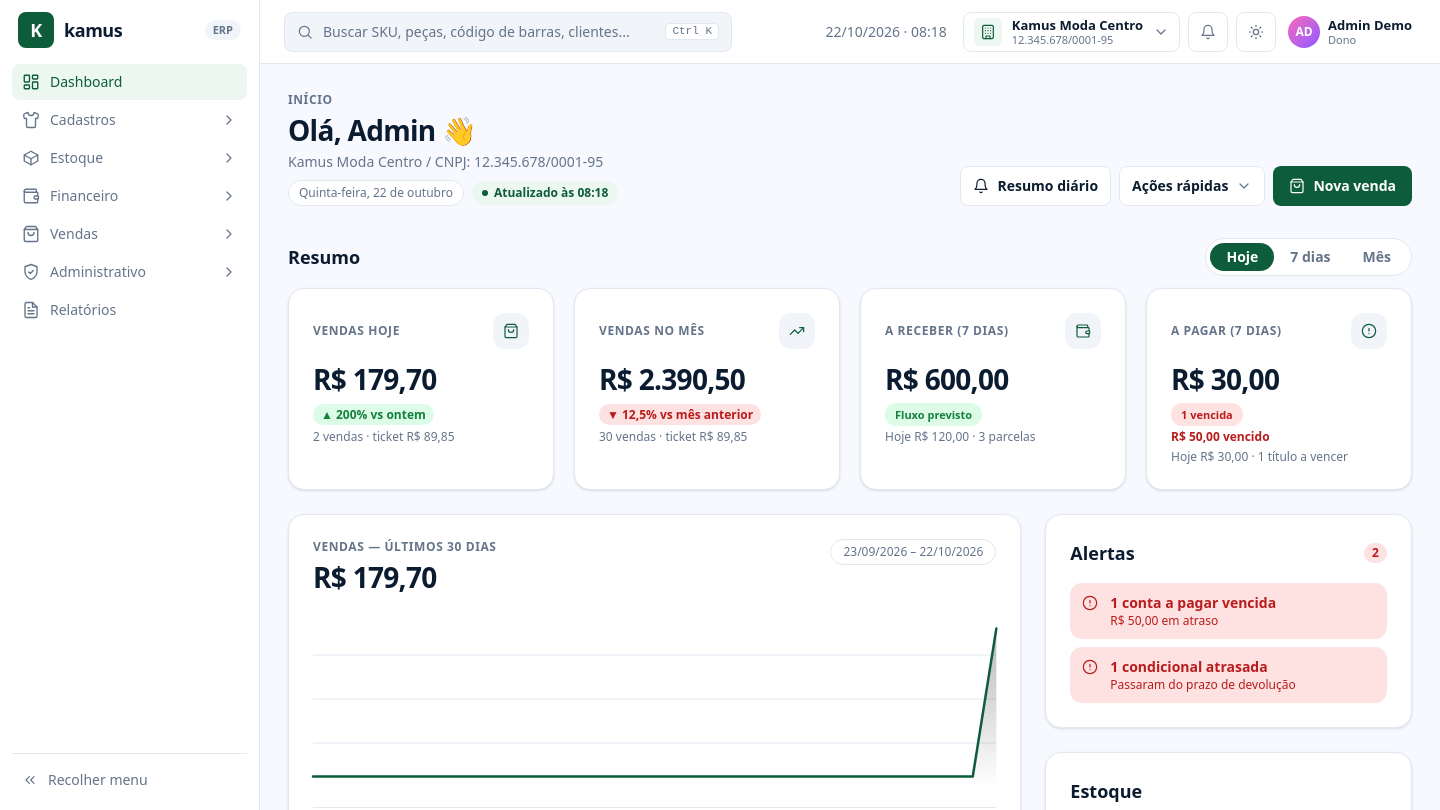
it: Dashboard › visão consolidada mostra quantas empresas estão somadas
Expected: the text "Kamus Moda Centro / CNPJ: 12.345.678/0001-95" is shown, 288,152 -> 618,172
Click the button with aria-label "Empresa ativa" at (1071, 32), box 963,12 -> 1180,52
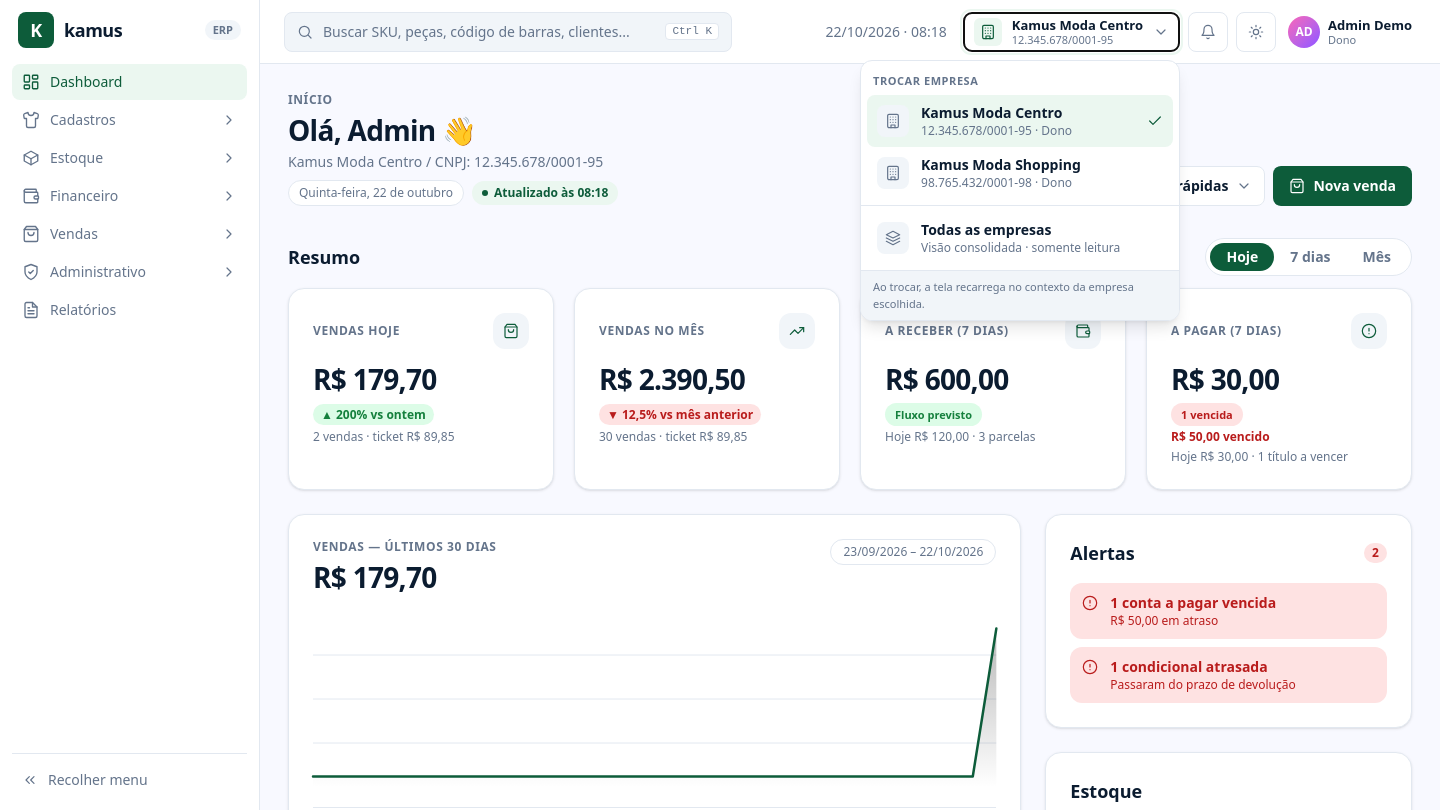
Click the menu item "Todas as empresas Visão consolidada · somente leitura" at (1020, 238), box 867,212 -> 1173,264
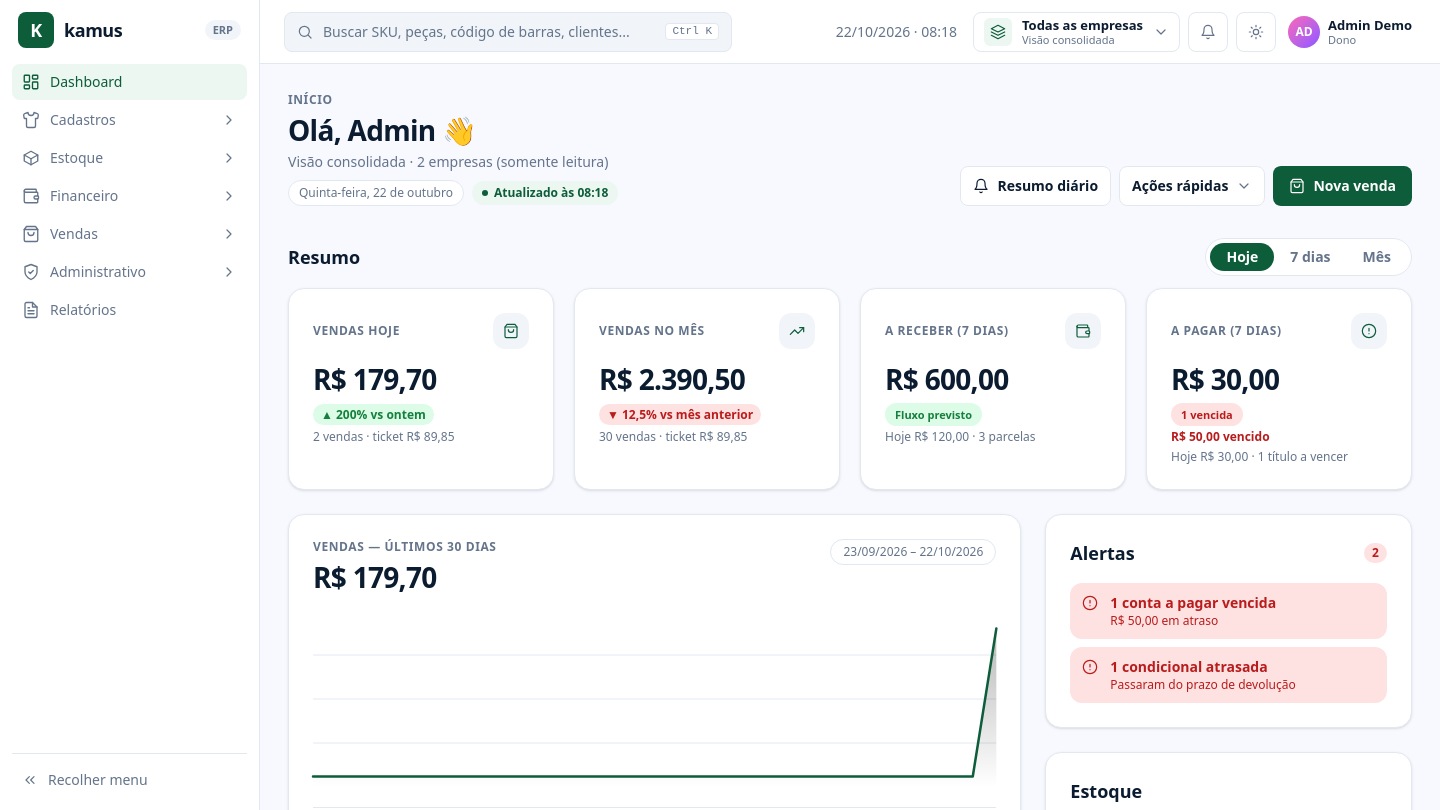
Expected: the text "Visão consolidada · 2 empresas (somente leitura)" is shown, 288,152 -> 618,172
